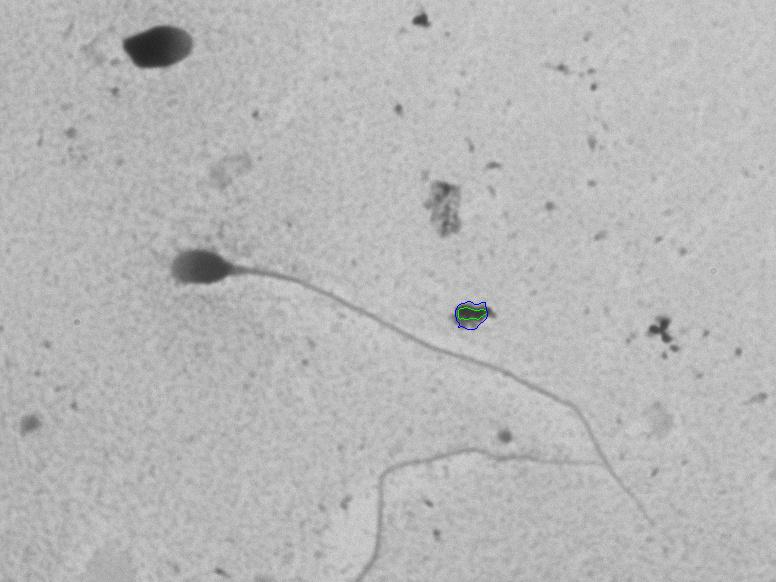Normal: (155, 223, 678, 536)
